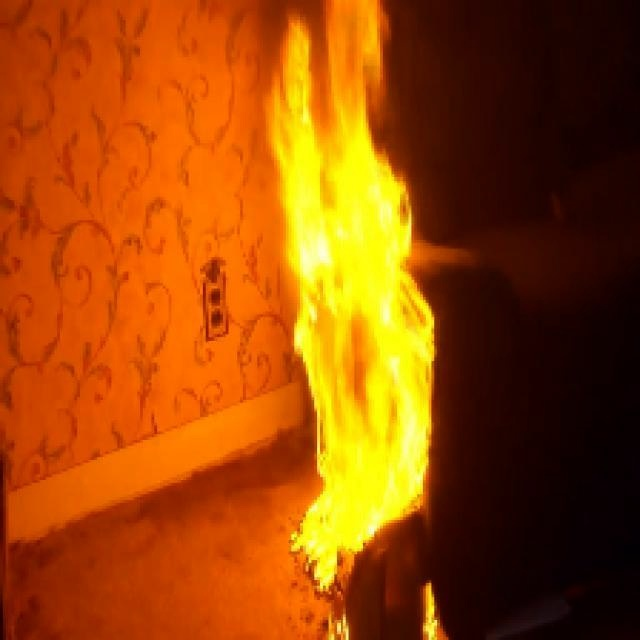fire: (257, 4, 441, 557)
